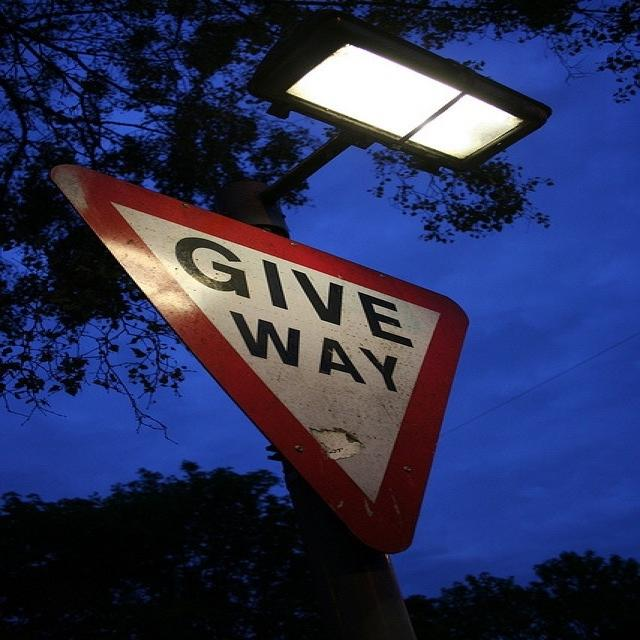Stop: (47, 160, 472, 555)
